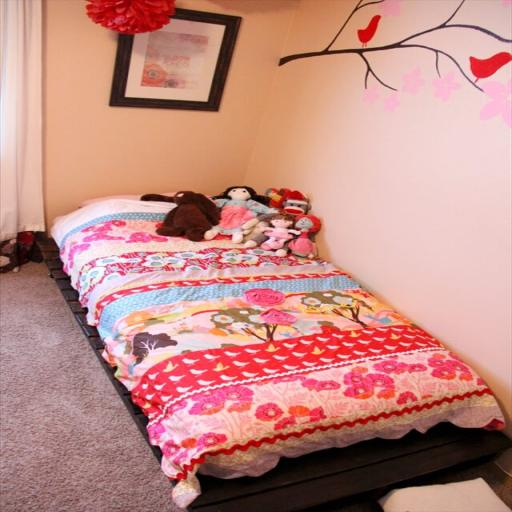bed: (37, 185, 512, 512)
